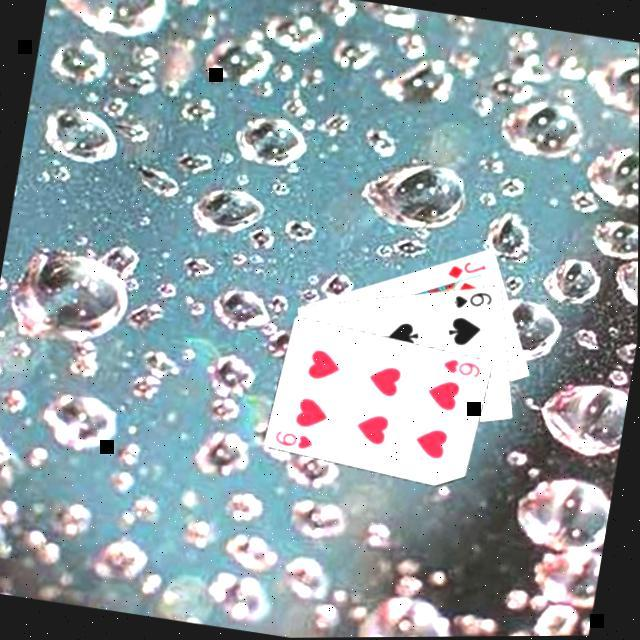6H: (438, 355, 485, 383), (270, 428, 317, 456)
6S: (449, 285, 495, 317)
JD: (444, 257, 489, 287)
